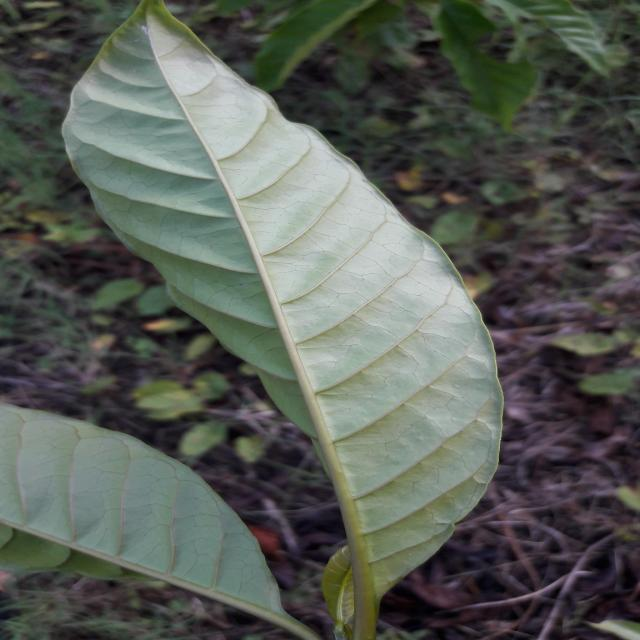Sanas: (61, 0, 505, 640)
